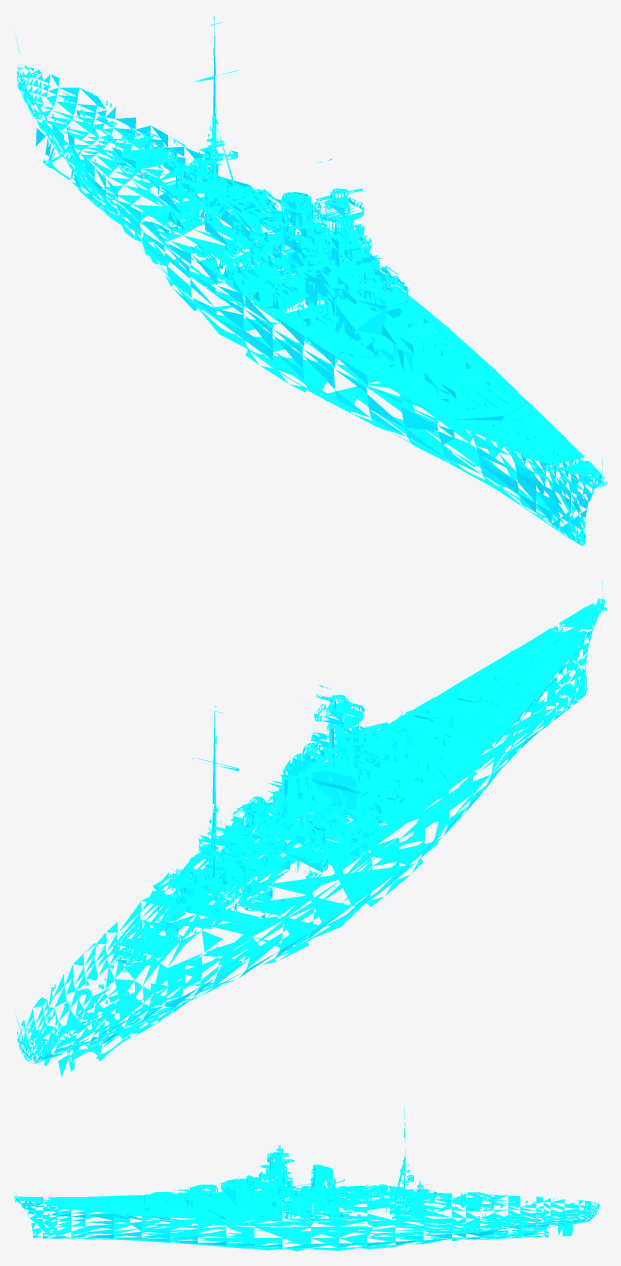
File: PGSB507.glb
The picture shows the model from 3 angles, top to bottom: view 1: azimuth 30°, elevation 25°; view 2: azimuth 150°, elevation 25°; view 3: azimuth 270°, elevation 25°; orthographic projection. The views are drawn at different scales.
Parts seen in each view (by area): view 1: hull, turret; view 2: hull, turret; view 3: hull, turret.
Part boxes in pixels (x1,y1,x2,y2): hull: (15, 16, 606, 545); turret: (93, 119, 508, 410); hull: (15, 581, 606, 1077); turret: (96, 679, 509, 971); hull: (14, 1106, 599, 1251); turret: (120, 1182, 513, 1220).
Size of the model in its own units: 2.06 by 3.88 by 15.87.
